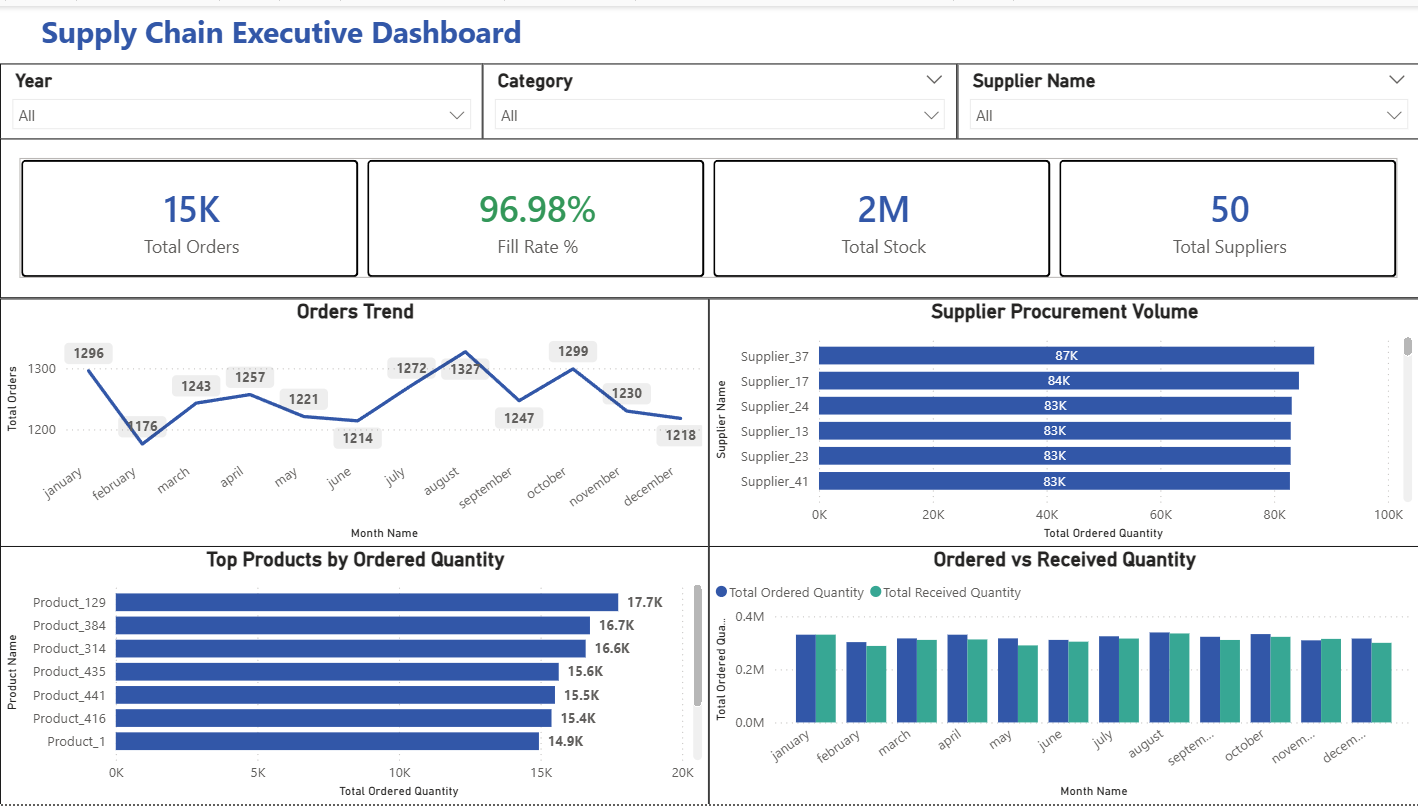

The dashboard page shown, as its layout file describes it:
{"tool":"powerbi","page":{"name":" Executive Dashboard","canvas":[1280,720],"ordinal":0},"visuals":[{"type":"lineChart","title":"Orders Trend","fields":{"Category":["Dim Date.month_name"],"Y":["measures .Total orders"]},"box":[0,264,639.5,222.1],"z":0},{"type":"clusteredBarChart","title":"Top Products by Ordered Quantity","fields":{"Category":["Dim Products.product_name"],"Y":["measures .Total Ordered Quantity"]},"box":[0,486,639.5,234.9],"z":1000},{"type":"barChart","title":"Supplier Procurement Volume","fields":{"Category":["Dim Suppliers.supplier_name"],"Y":["measures .Total Ordered Quantity"]},"box":[639.5,264.1,640.8,223.8],"z":2000},{"type":"clusteredColumnChart","title":"Ordered vs Received Quantity","fields":{"Category":["Dim Date.month_name"],"Y":["measures .Total Ordered Quantity","measures .Total Received Quantity"]},"box":[639.5,486,640.7,233.7],"z":3000},{"type":"slicer","fields":{"Values":["Dim Date.year_number"]},"box":[0,51.4,435.3,68.5],"z":4000},{"type":"slicer","fields":{"Values":["Dim Products.category"]},"box":[435.3,51.4,428,68.5],"z":5000},{"type":"slicer","fields":{"Values":["Dim Suppliers.supplier_name"]},"box":[863.3,51.4,417,68.5],"z":6000},{"type":"cardVisual","fields":{"Data":["measures .Total orders","measures .Fill Rate %","measures .Total Stock","measures .Supplier Count"]},"box":[0,119.8,1280.3,144.3],"z":7000},{"type":"textbox","box":[0,0,507.5,51.4],"z":8000}]}

Visuals, with their boxes in screenshot pixels (x1, y1, x2, y2), scaled from the page's 1280x720 canvas onto the 1418x808 screenshot:
"Orders Trend" lineChart: bbox=(0, 296, 708, 546)
"Top Products by Ordered Quantity" clusteredBarChart: bbox=(0, 545, 708, 807)
"Supplier Procurement Volume" barChart: bbox=(708, 296, 1417, 548)
"Ordered vs Received Quantity" clusteredColumnChart: bbox=(708, 545, 1417, 807)
slicer - Dim Date.year_number: bbox=(0, 58, 482, 135)
slicer - Dim Products.category: bbox=(482, 58, 956, 135)
slicer - Dim Suppliers.supplier_name: bbox=(956, 58, 1417, 135)
cardVisual - measures .Total orders x measures .Fill Rate %: bbox=(0, 134, 1417, 296)
textbox: bbox=(0, 0, 562, 58)
